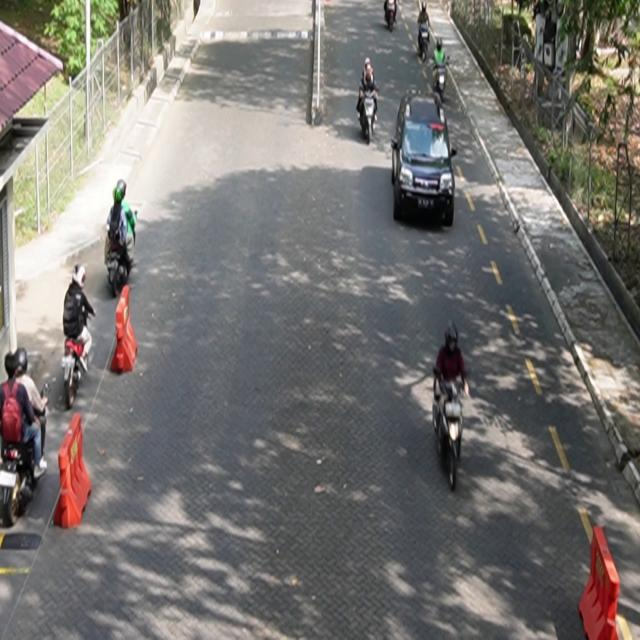car: (391, 91, 458, 228)
